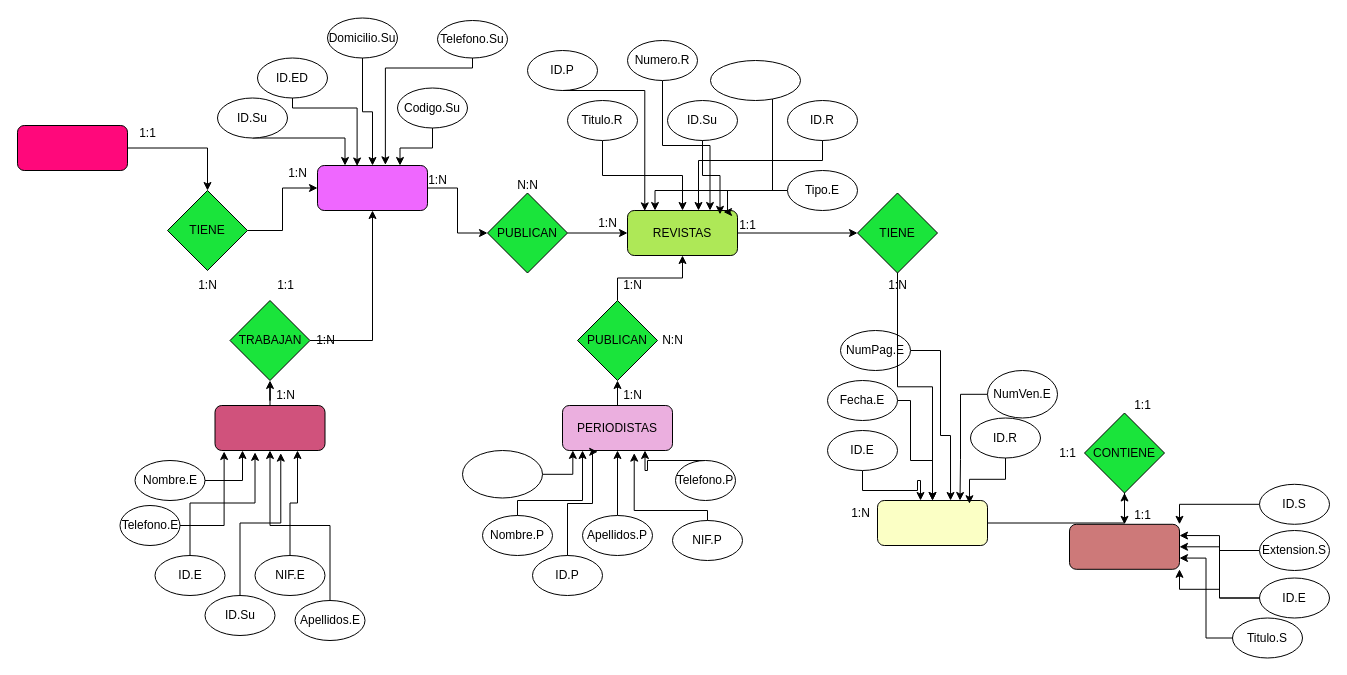
Some shapes in this 1347 by 675 pixel diagram are drawn without their labels. The shapes that lost their labels are listed below. From the top down, each one's centre as x and y in pixels, then its label:
the point at 755,80: Periodicidad.R
the point at 72,147: EDITORIAL
the point at 372,187: SUCURSAL
the point at 269,427: EMPLEADO
the point at 502,474: Especilidad.P
the point at 932,523: EJEMPLAR
the point at 1124,546: SECCIONES
